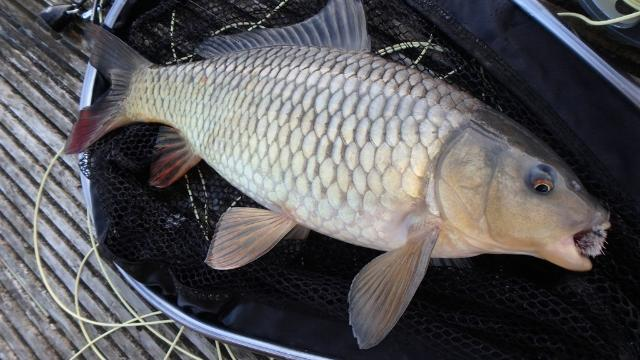Mulut: (564, 184, 618, 292)
Sirip Anal: (140, 116, 204, 198)
Sirip Dada: (344, 214, 446, 352)
Sirip Ekor: (47, 8, 156, 172)
Sirip Perut: (194, 192, 324, 282)
Sirip Punggung: (187, 0, 375, 68)
